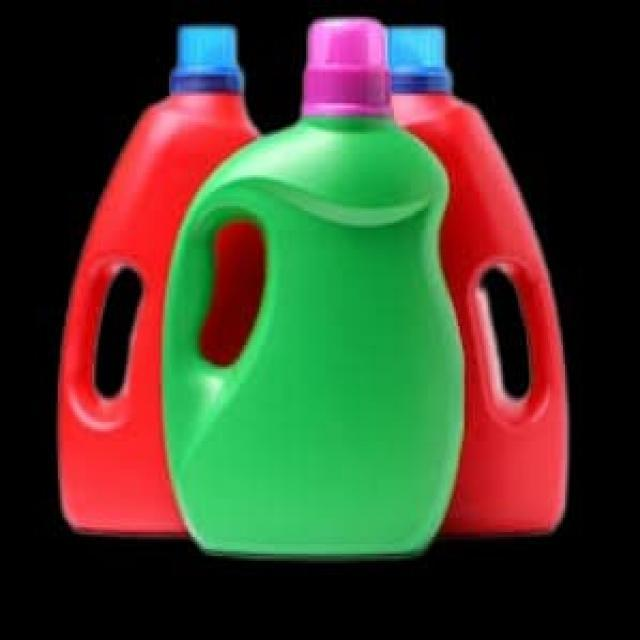HDPE Plastic: (156, 13, 470, 563), (50, 20, 270, 547), (376, 20, 575, 539)
